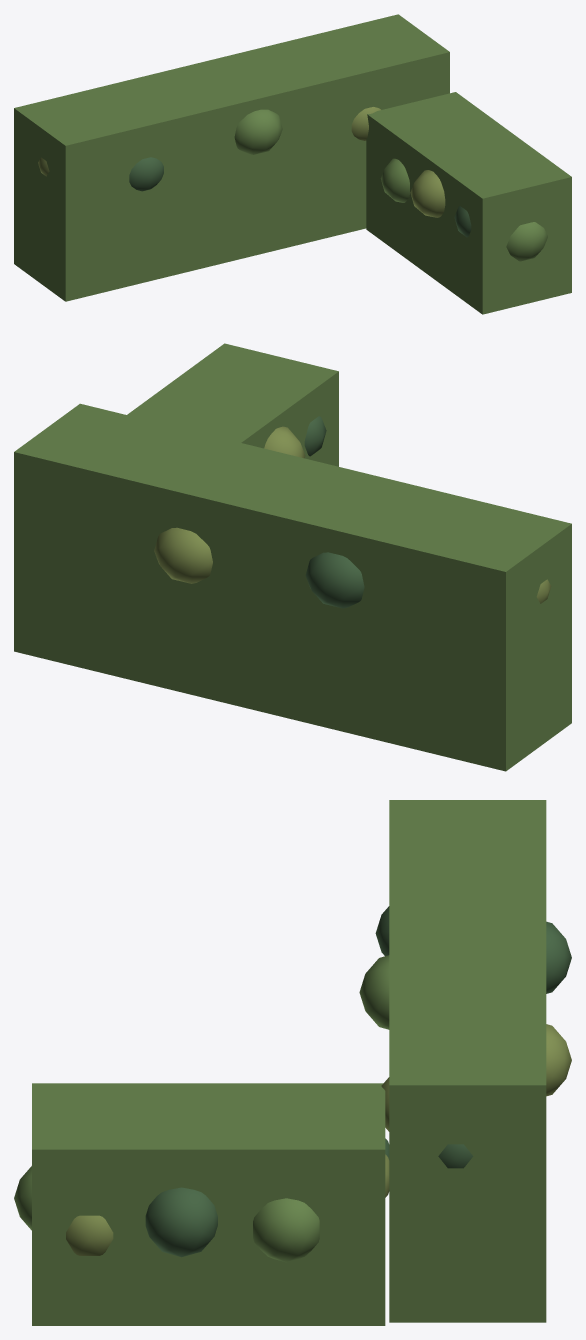
3 renders of one model, top to bottom at view 1: azimuth 30°, elevation 25°; view 2: azimuth 150°, elevation 25°; view 3: azimuth 270°, elevation 25°, orthographic. The views are drawn at different scales.
Visible parts, largest first — view 1: climb-hedge-4-0, climb-hedge-4-1, 생울타리 05; view 2: climb-hedge-4-0, climb-hedge-4-1, 생울타리 05; view 3: climb-hedge-4-0, climb-hedge-4-1, 생울타리 05.
Part boxes in pixels (x1,y1,x2,y2): climb-hedge-4-0: [14, 14, 449, 301]; climb-hedge-4-1: [366, 92, 571, 314]; 생울타리 05: [38, 107, 547, 261]; climb-hedge-4-0: [14, 403, 571, 771]; climb-hedge-4-1: [127, 343, 338, 466]; 생울타리 05: [154, 416, 551, 608]; climb-hedge-4-0: [389, 800, 546, 1322]; climb-hedge-4-1: [32, 1083, 385, 1325]; 생울타리 05: [14, 906, 571, 1262].
Bounding box in the file's own units: 4.61 × 1.67 × 3.55.
